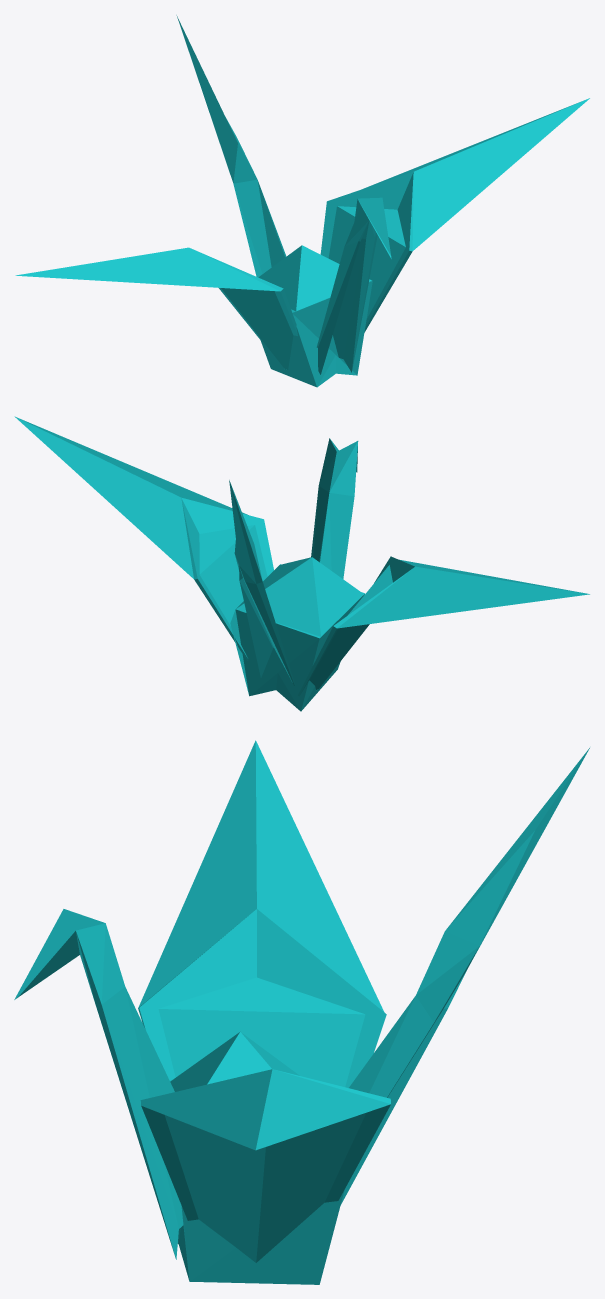
File: crane.obj
3 views of the same model, one above another, from view 1: azimuth 30°, elevation 25°; view 2: azimuth 150°, elevation 25°; view 3: azimuth 270°, elevation 25° (orthographic). The views are drawn at different scales.
Parts seen in each view (by area): view 1: default; view 2: default; view 3: default.
Boxes of the visible parts, <box> form: default: <box>15,15,589,387</box>; default: <box>14,416,589,711</box>; default: <box>14,740,589,1284</box>.
Bounding box in the file's own units: 129 × 63.52 × 66.7.
